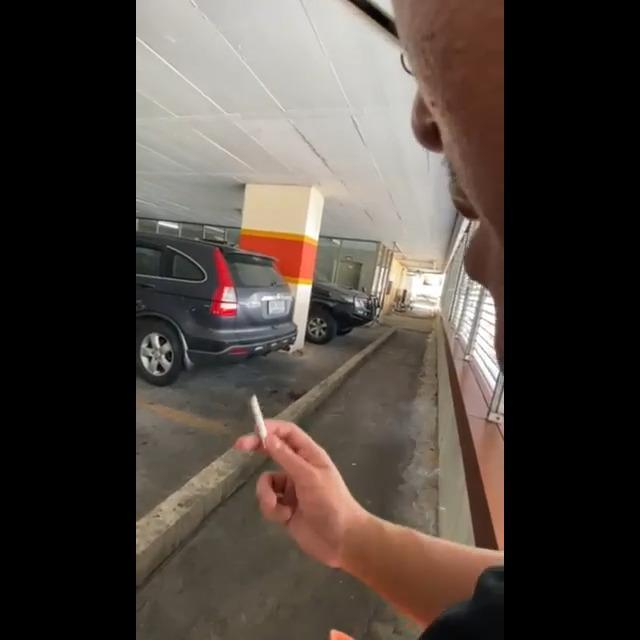rokok: (236, 392, 282, 448)
